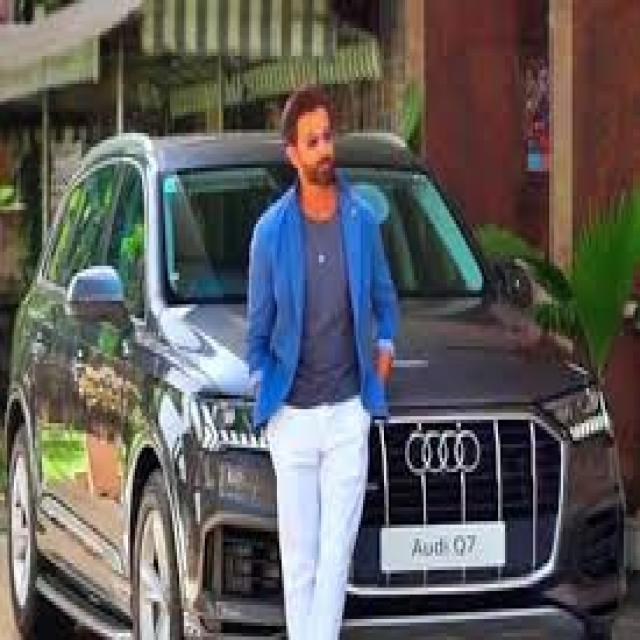Car: (5, 133, 294, 638), (336, 135, 625, 632)
Two Wheeler: (337, 135, 624, 628)
